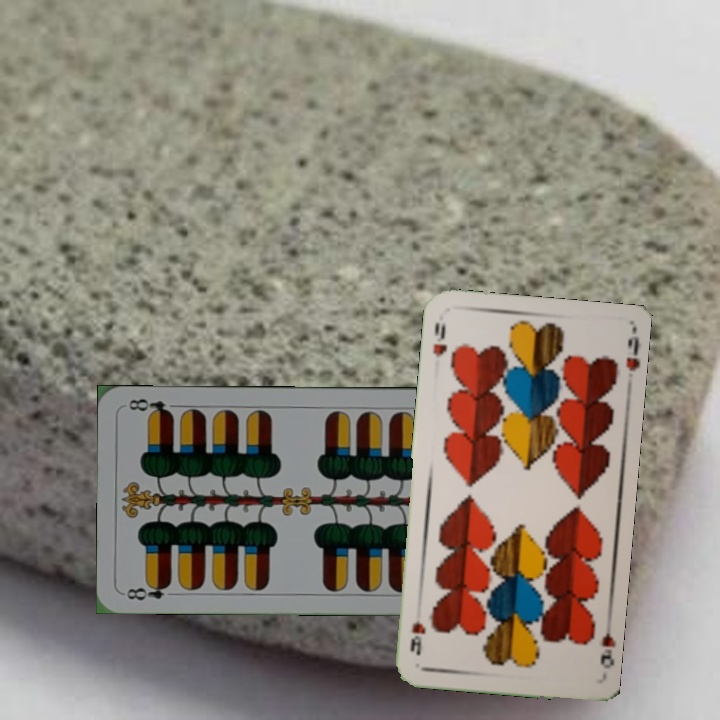E8: (123, 578, 174, 603)
H9: (596, 618, 616, 672), (429, 318, 449, 360)
